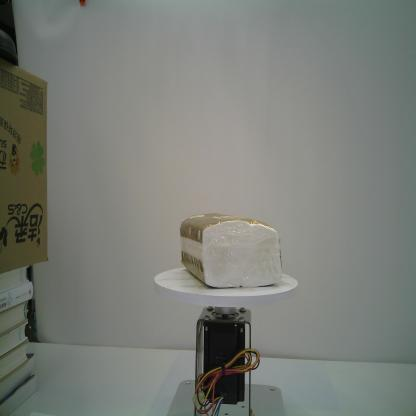Tissue: (179, 212, 283, 289)
